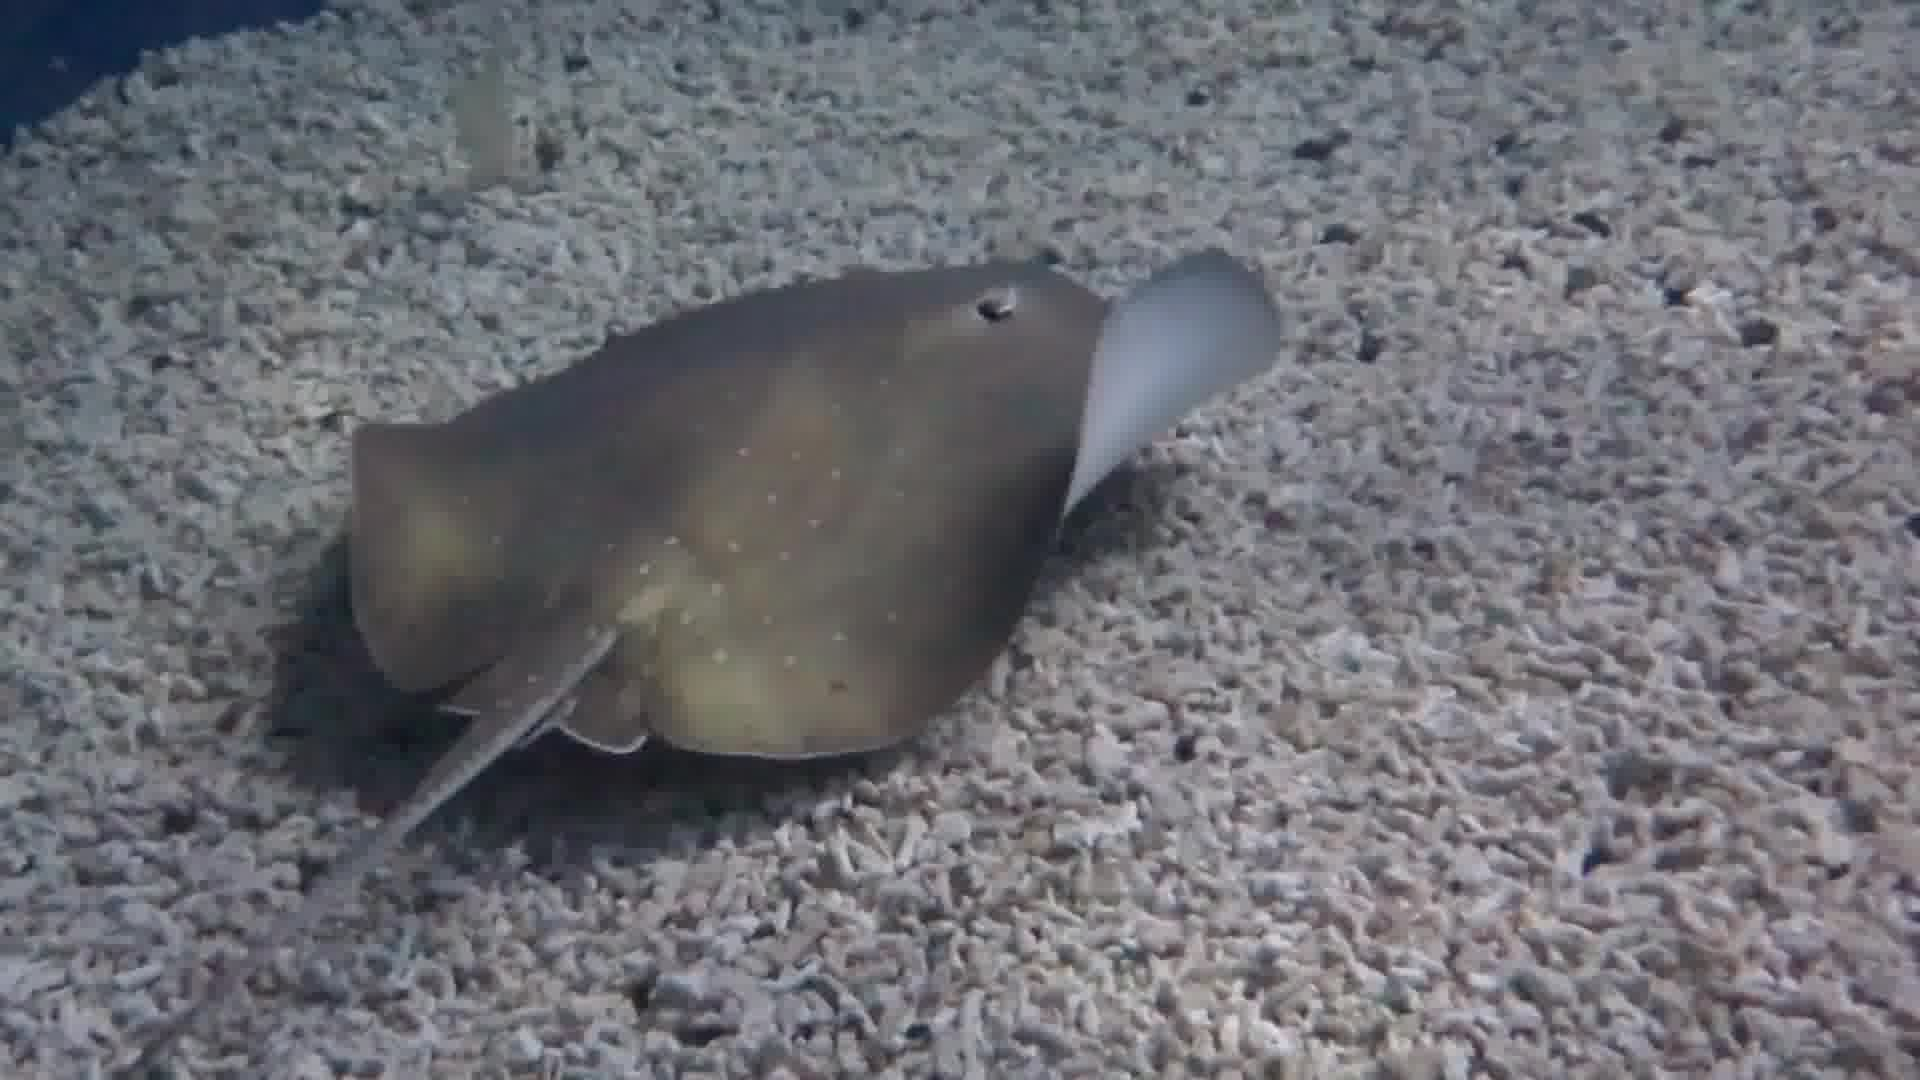Himantura gerrardi: (274, 240, 1302, 1080)
